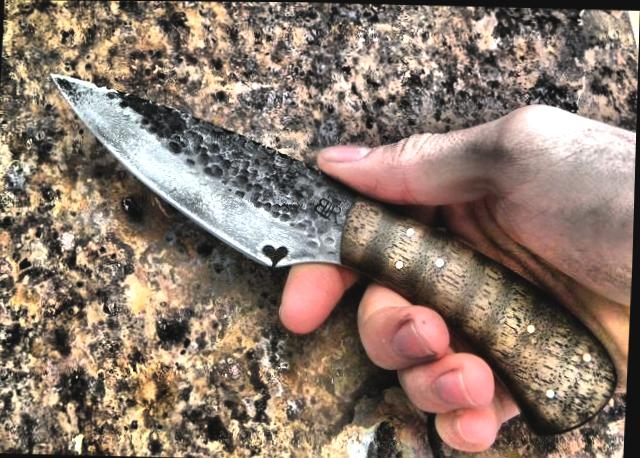knife: (18, 63, 526, 452)
